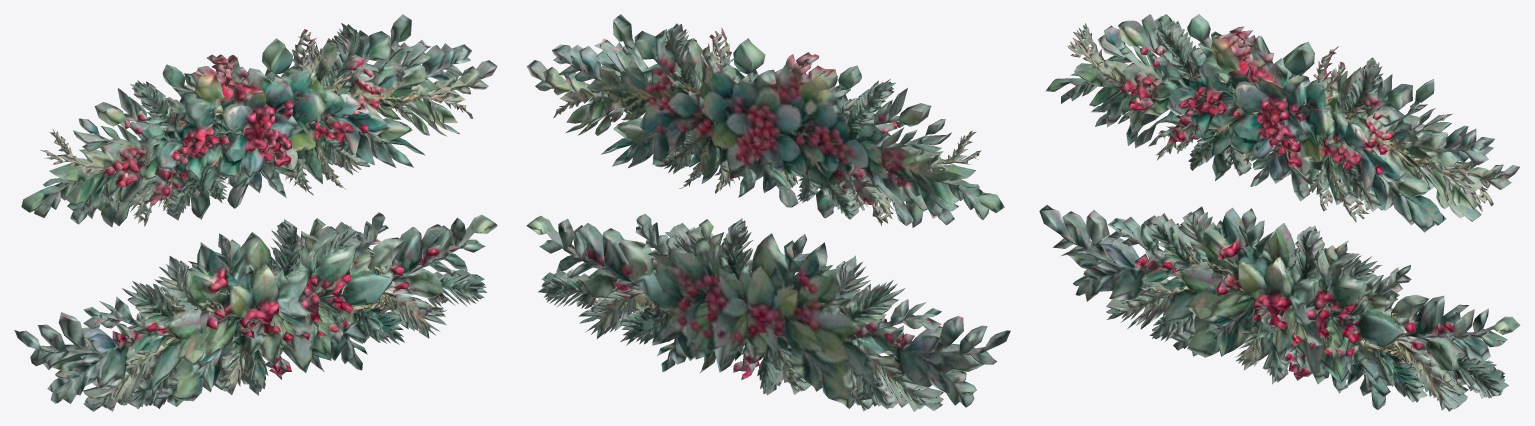
3 views of the same model, side by side, from view 1: azimuth 30°, elevation 25°; view 2: azimuth 150°, elevation 25°; view 3: azimuth 330°, elevation 25° (orthographic).
Visible parts, largest first — view 1: Mesh 1, Mesh 2; view 2: Mesh 1, Mesh 2; view 3: Mesh 1, Mesh 2.
Boxes of the visible parts, left/top/right/bottom form: Mesh 1: left=14, top=212, right=497, bottom=411; Mesh 2: left=21, top=14, right=497, bottom=227; Mesh 1: left=526, top=214, right=1010, bottom=411; Mesh 2: left=526, top=14, right=1004, bottom=227; Mesh 1: left=1039, top=205, right=1520, bottom=411; Mesh 2: left=1045, top=14, right=1519, bottom=232.
Bounding box in the file's own units: 1.9 × 1.33 × 0.1229.
2 materials, 2 textured.
